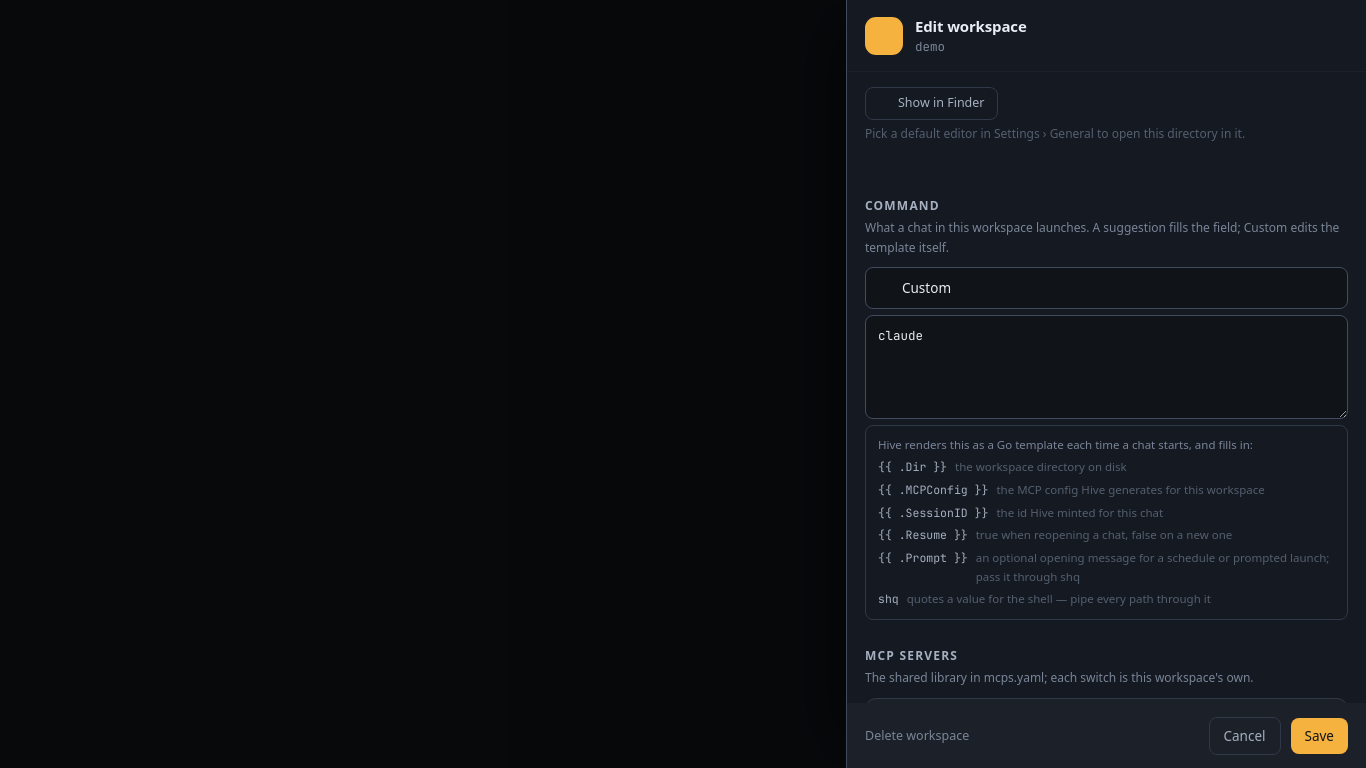
Test case: AgentWorkspaceEditor › a suggestion carries its agent mark, sized to the row
Click the button "Custom" at (927, 288), box x1=865 y1=267 x2=1348 y2=309
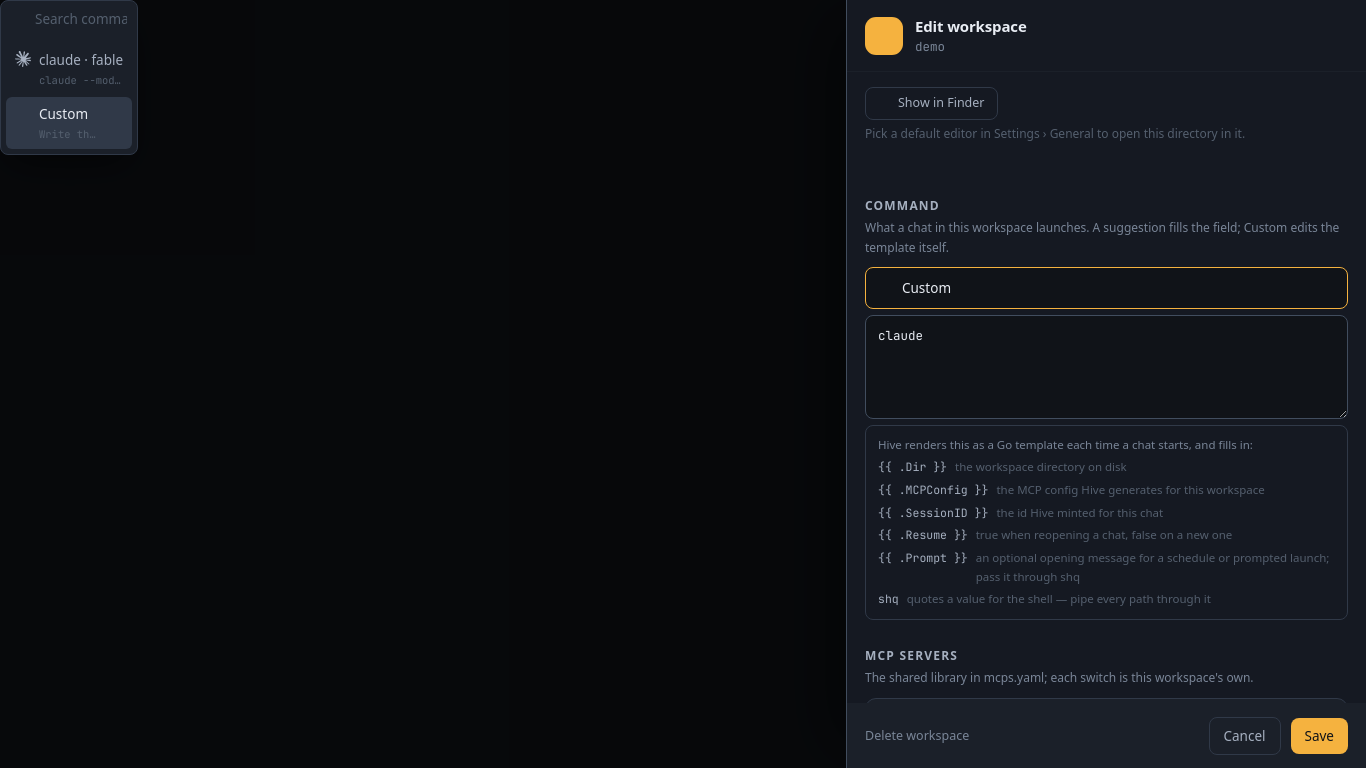
Now the icon is shown, box x1=15 y1=51 x2=31 y2=67
